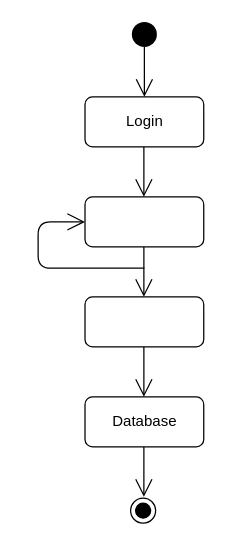
Some shapes in this 226 by 545 pixel diagram are drawn without their labels. The centre of each missing label's shape, as x and y in pixels:
Menu Utama: pixel 144 321
Validasi: pixel 144 221
